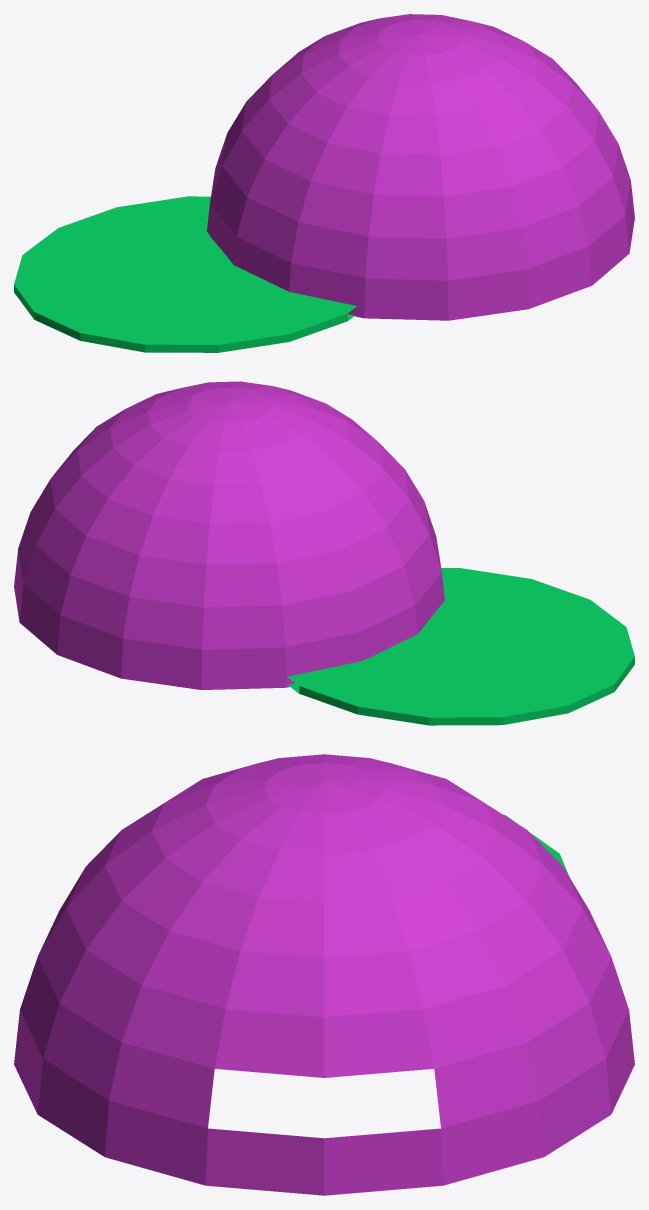
File: hatt_caps.fbx
3 renders of one model, top to bottom at view 1: azimuth 30°, elevation 25°; view 2: azimuth 150°, elevation 25°; view 3: azimuth 270°, elevation 25°, orthographic. The views are drawn at different scales.
Visible parts, largest first — view 1: Sphere; view 2: Sphere; view 3: Sphere.
Part boxes in pixels (x1,y1,x2,y2): Sphere: [14, 14, 634, 352]; Sphere: [14, 381, 634, 725]; Sphere: [14, 754, 634, 1195].
Bounding box in the file's own units: 152 × 50 × 100.
